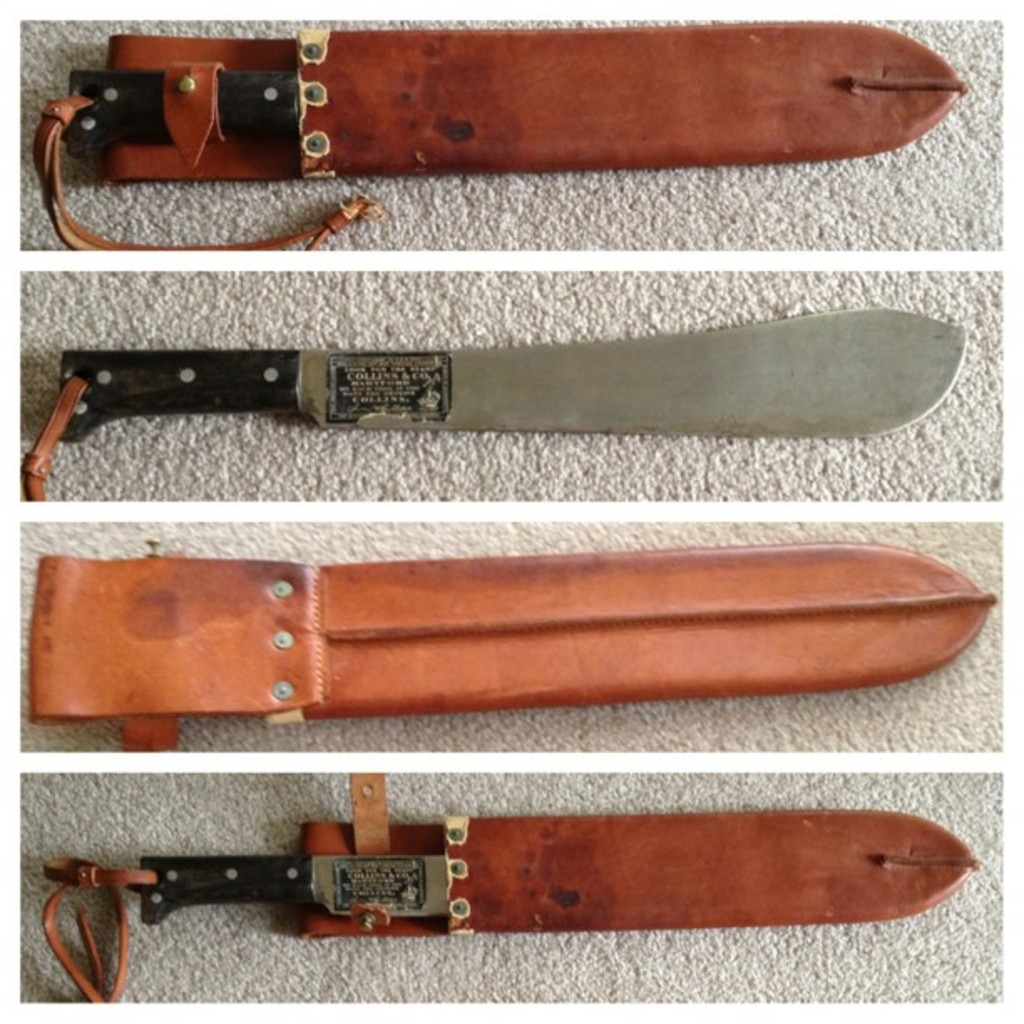knife: (30, 16, 972, 249), (38, 773, 981, 1005), (25, 534, 998, 753), (19, 299, 970, 500)
